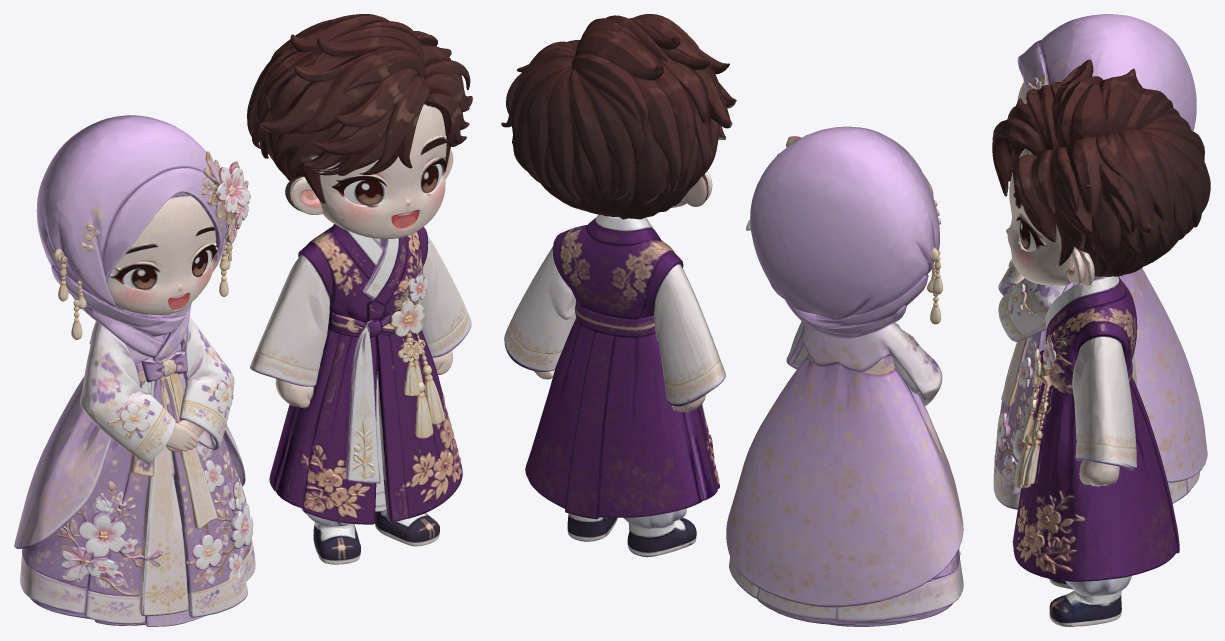
File: couple.glb
3 views of the same model, side by side, from view 1: azimuth 30°, elevation 25°; view 2: azimuth 150°, elevation 25°; view 3: azimuth 270°, elevation 25° (orthographic).
Visible parts, largest first — view 1: output_unwrapped; view 2: output_unwrapped; view 3: output_unwrapped.
Part boxes in pixels (box(x1,y1,x2,y2)): output_unwrapped: box(14, 14, 472, 626); output_unwrapped: box(501, 14, 963, 626); output_unwrapped: box(992, 14, 1210, 626).
Size of the model in its own units: 1.72 by 1.9 by 0.7262.
1 material, 1 textured.
